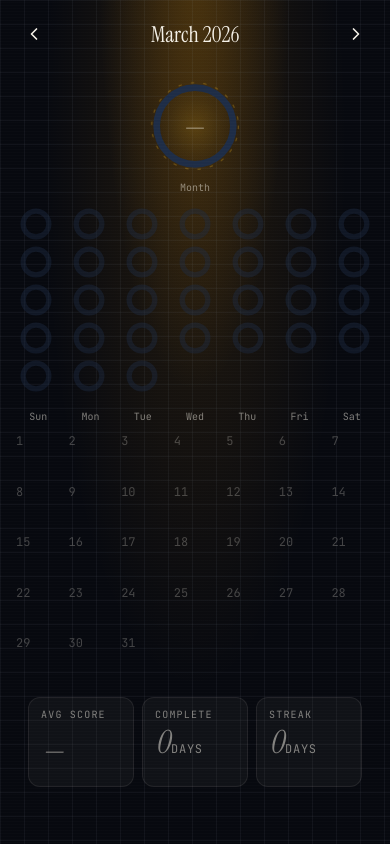
Test case: C-m9e-011: MonthView — initialMonth prop: seeds displayed month; omitting is byte-identical › with initialMonth: prev/next still freely mutate displayed (prop only seeds initial)
Check: the heading reads "March 2026", box [151,20,239,48]
// Click Next month → April 2026
Click the button named "next month". click: (356, 34)
box: [334,12,378,56]
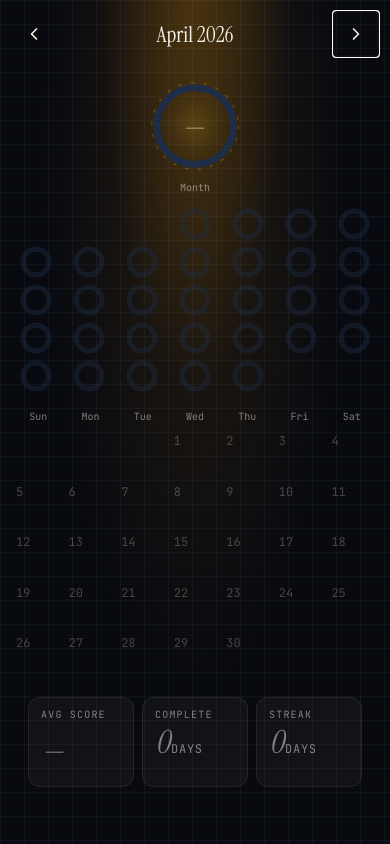
Check: the heading reads "April 2026", box [156,20,234,48]
// Click Previous month → back to March 2026
Click the button named "previous month". click: (34, 34)
box: [12,12,56,56]
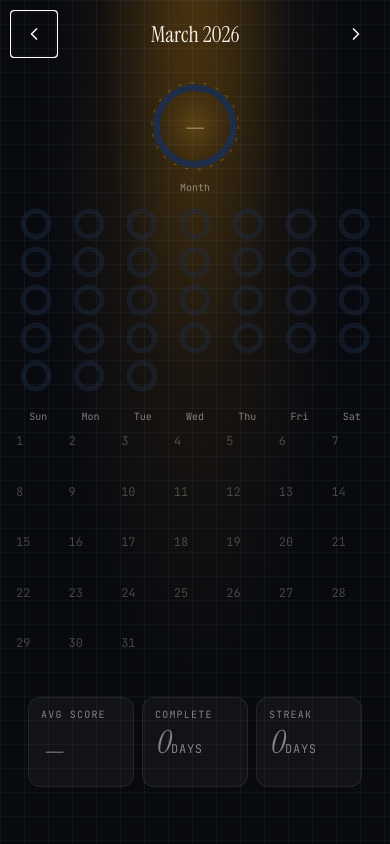
Check: the heading reads "March 2026", box [151,20,239,48]
